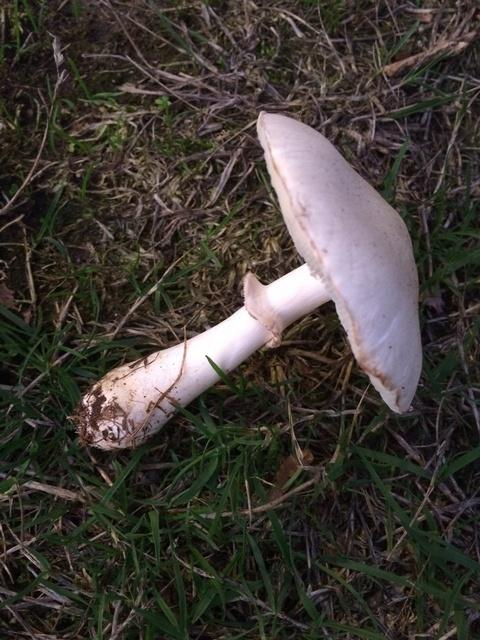Non-edible Mushroom: (74, 109, 424, 452)
